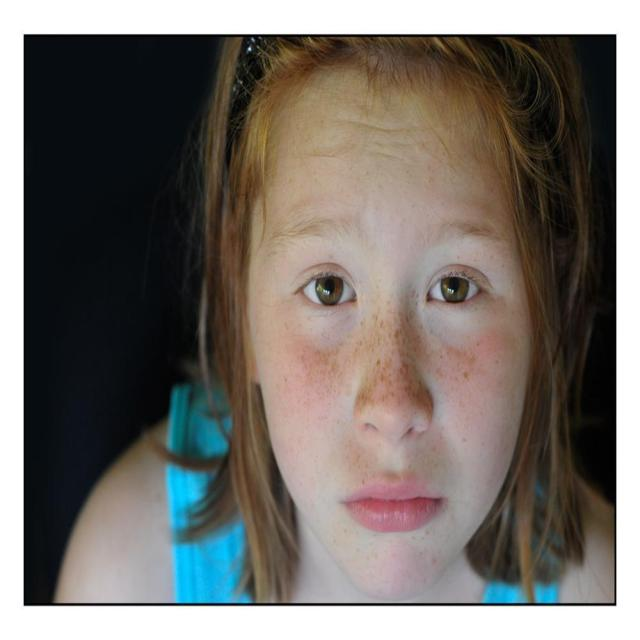no-glass: (294, 254, 498, 308)
